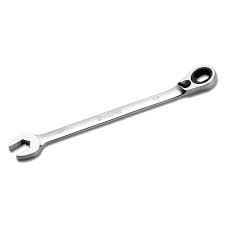wrench: (7, 63, 217, 161)
